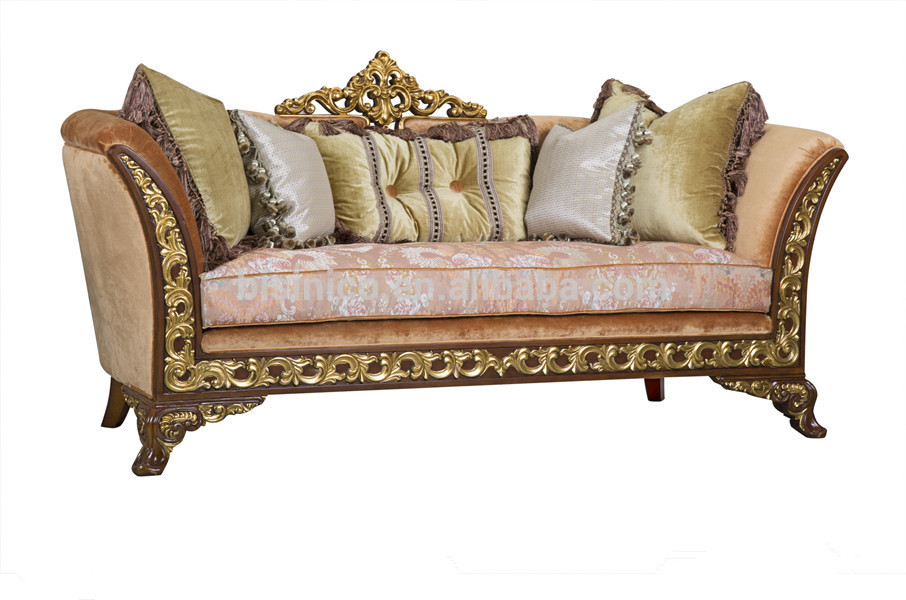Carving Chair: (75, 78, 842, 465)
